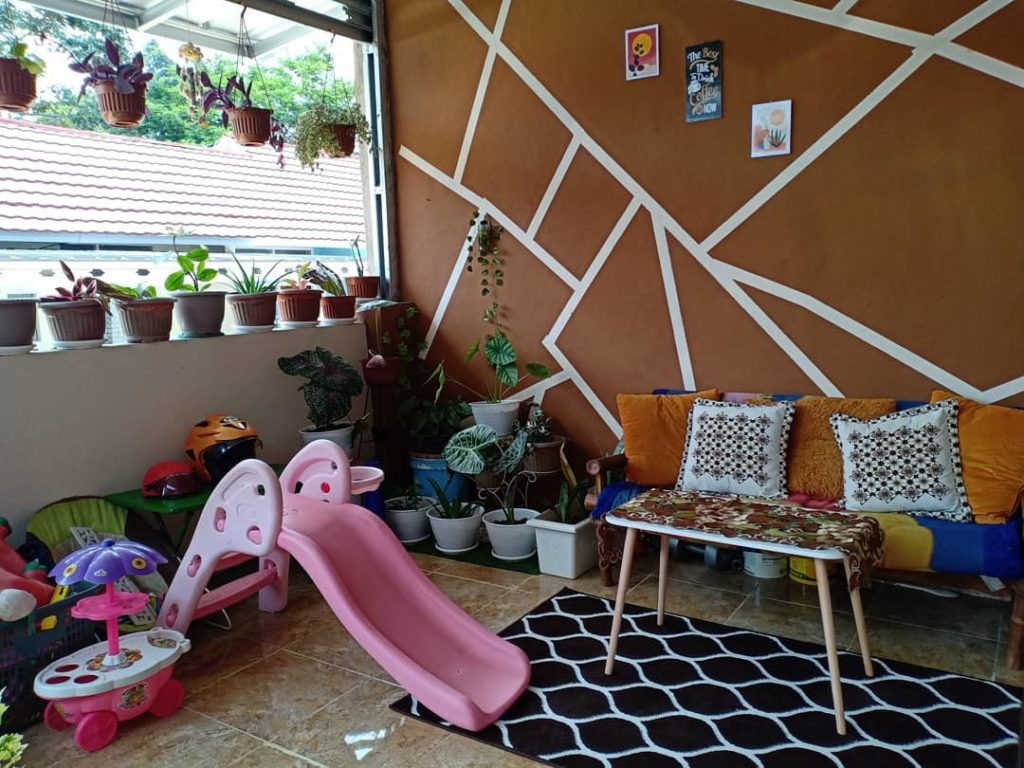bantal: (832, 412, 965, 518), (684, 397, 786, 502), (963, 402, 1024, 523), (617, 389, 681, 483), (791, 399, 849, 494)
lukisan: (682, 37, 728, 126), (746, 97, 797, 165), (622, 22, 664, 85)
meja: (602, 488, 865, 729)
sova: (617, 372, 1024, 603)
tanaman: (452, 423, 545, 562), (459, 212, 520, 419), (275, 348, 363, 442), (68, 40, 153, 128), (293, 79, 370, 167), (531, 497, 599, 582), (172, 241, 232, 333), (42, 265, 108, 340), (426, 478, 492, 553), (109, 266, 175, 341), (1, 5, 42, 119), (224, 72, 277, 152), (228, 253, 280, 329), (383, 478, 433, 545), (278, 260, 320, 324), (344, 238, 382, 297), (321, 269, 354, 320)
